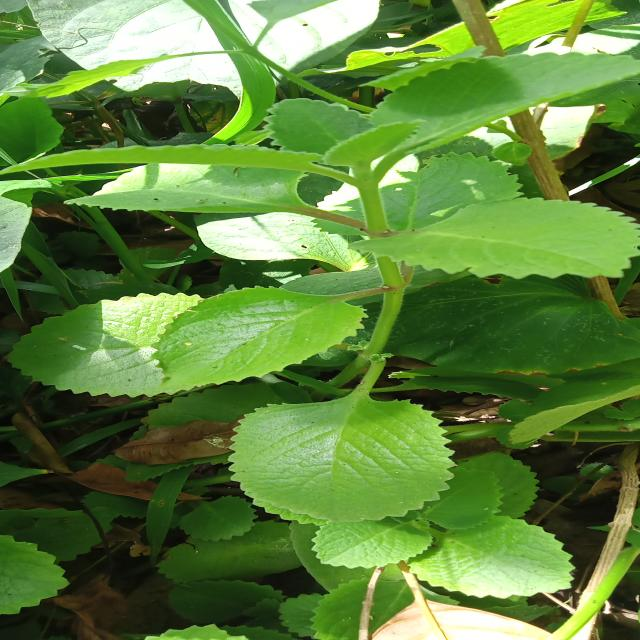Oregano: (35, 95, 640, 178), (210, 386, 476, 525), (360, 195, 640, 292)
